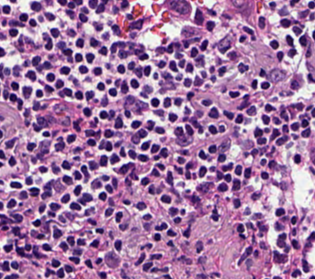nucleus: (218, 36, 230, 52), (269, 69, 284, 81), (120, 164, 132, 173), (238, 63, 248, 72), (238, 100, 248, 109), (209, 107, 218, 117), (169, 61, 177, 72), (276, 136, 287, 144), (232, 179, 240, 190), (81, 165, 88, 177), (290, 80, 299, 89), (37, 117, 46, 126), (190, 118, 199, 127), (55, 141, 64, 150), (185, 125, 193, 135), (271, 129, 279, 139), (115, 117, 122, 128), (32, 56, 40, 65), (194, 76, 202, 85), (247, 106, 255, 115), (254, 128, 262, 137), (62, 175, 71, 183), (218, 183, 227, 191), (121, 82, 128, 92), (280, 110, 287, 120), (223, 111, 233, 118), (100, 155, 107, 165), (199, 166, 206, 176), (74, 185, 81, 195), (167, 171, 172, 184), (90, 38, 98, 46), (270, 40, 278, 48), (119, 50, 127, 58), (228, 51, 236, 59), (46, 73, 54, 81), (126, 96, 134, 104), (146, 121, 154, 129), (174, 127, 182, 135), (104, 129, 112, 137), (138, 129, 146, 137), (302, 129, 310, 137), (67, 134, 75, 142), (151, 144, 159, 152), (61, 194, 69, 202), (51, 28, 58, 37), (299, 36, 306, 45), (76, 38, 83, 47), (110, 43, 117, 52), (166, 44, 173, 53), (86, 53, 93, 62), (60, 67, 69, 74), (86, 91, 93, 100), (235, 114, 242, 123), (262, 115, 269, 124), (131, 121, 140, 128), (257, 137, 266, 144), (111, 154, 118, 163), (30, 188, 39, 195), (83, 193, 92, 200), (161, 195, 170, 202), (286, 35, 292, 45), (201, 40, 207, 50), (135, 67, 141, 77), (73, 120, 79, 130), (244, 168, 250, 178), (45, 41, 52, 49), (99, 47, 107, 54), (288, 49, 296, 56), (75, 53, 82, 61), (117, 65, 124, 73), (79, 66, 87, 73), (94, 67, 101, 75), (218, 67, 225, 75), (184, 78, 191, 86), (131, 79, 138, 87), (56, 80, 63, 88), (97, 82, 104, 90), (75, 91, 82, 99), (151, 98, 158, 106), (265, 104, 273, 111), (83, 108, 90, 116), (169, 113, 176, 121), (291, 122, 298, 130), (209, 125, 216, 133), (132, 135, 139, 143), (141, 142, 149, 149), (208, 145, 216, 152), (129, 150, 136, 158), (62, 161, 69, 169), (89, 161, 96, 169), (74, 171, 81, 179), (93, 180, 101, 187), (42, 191, 50, 198), (99, 192, 106, 200), (139, 54, 148, 60), (144, 66, 150, 75), (164, 98, 170, 107), (155, 127, 164, 133), (85, 130, 94, 136), (161, 148, 167, 157), (138, 155, 147, 161), (235, 165, 241, 174), (112, 178, 117, 188), (68, 29, 75, 36), (57, 41, 64, 48), (144, 85, 151, 92), (64, 88, 71, 95), (109, 88, 116, 95), (174, 98, 181, 105), (296, 103, 303, 110), (100, 111, 107, 118), (273, 117, 280, 124), (33, 124, 40, 131), (199, 151, 206, 158), (218, 154, 225, 161), (152, 169, 159, 176), (223, 174, 230, 181), (141, 178, 148, 185), (105, 185, 112, 192), (191, 48, 197, 56), (63, 49, 71, 55), (277, 52, 283, 60), (186, 64, 192, 72), (163, 72, 171, 78), (261, 82, 269, 88), (230, 91, 238, 97), (101, 97, 107, 105), (33, 102, 39, 110), (87, 139, 95, 145), (105, 142, 111, 150), (294, 155, 300, 163), (269, 160, 275, 168), (156, 164, 164, 170), (202, 100, 211, 105), (120, 147, 125, 156), (43, 62, 50, 68), (128, 62, 134, 69), (45, 85, 52, 91), (187, 92, 193, 99), (302, 120, 308, 127), (39, 166, 46, 172), (53, 166, 59, 173), (261, 172, 268, 178), (252, 193, 259, 199), (192, 195, 198, 202), (179, 59, 184, 67), (308, 74, 313, 82), (252, 80, 257, 88), (155, 110, 163, 115), (185, 170, 190, 178), (149, 185, 154, 193), (158, 61, 164, 67), (36, 90, 42, 96), (178, 157, 184, 163), (260, 159, 266, 165), (131, 173, 137, 179), (117, 42, 124, 47), (157, 47, 164, 52), (260, 69, 265, 76), (125, 110, 130, 117), (219, 125, 224, 132), (283, 125, 288, 132), (217, 172, 222, 179), (125, 178, 130, 185), (306, 48, 310, 56), (102, 33, 108, 38), (239, 36, 245, 41), (183, 41, 188, 47), (176, 53, 182, 58), (109, 110, 114, 116), (196, 111, 202, 116), (43, 131, 49, 136), (252, 149, 257, 155), (186, 163, 192, 168), (227, 163, 232, 169), (176, 168, 182, 173), (79, 199, 85, 204), (311, 107, 314, 116), (176, 74, 181, 79), (31, 158, 36, 163), (202, 71, 206, 77), (141, 93, 147, 97), (198, 127, 202, 133), (99, 142, 103, 148), (181, 150, 187, 154), (102, 176, 108, 180), (135, 50, 140, 54), (210, 67, 214, 72), (222, 166, 227, 170), (211, 76, 215, 80), (244, 95, 248, 99), (265, 128, 269, 132), (115, 142, 119, 146), (210, 167, 214, 171), (154, 73, 157, 78), (116, 80, 119, 85), (312, 31, 314, 38), (107, 79, 110, 83), (292, 135, 296, 138), (154, 156, 158, 159)
